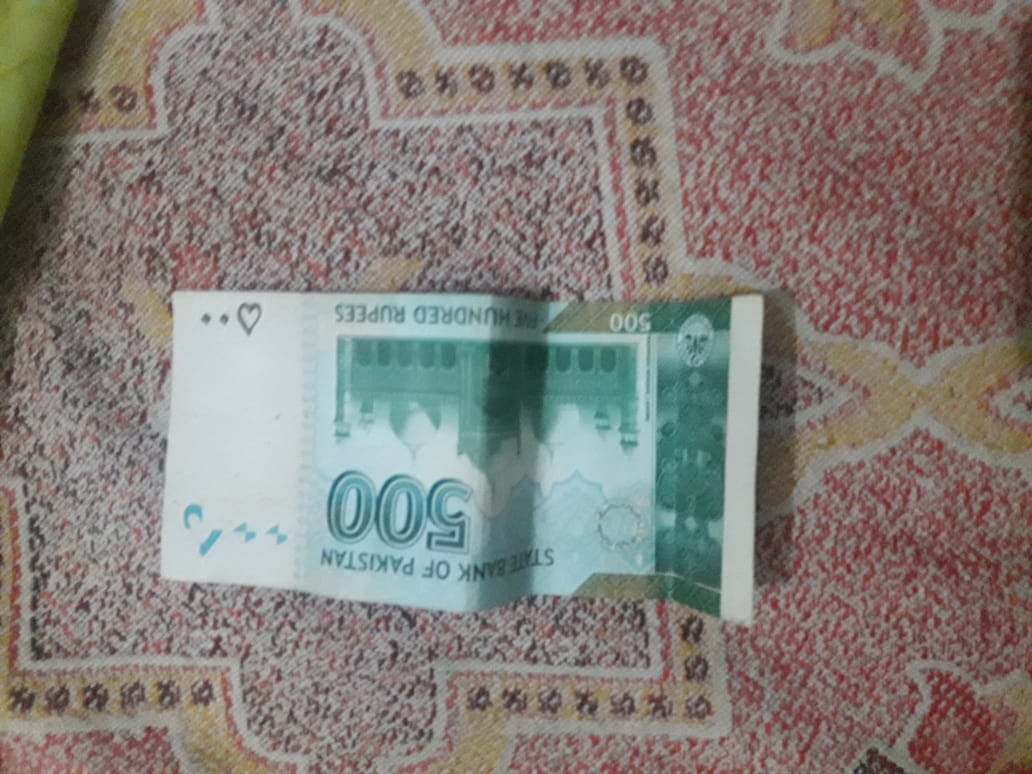500 rupee: (139, 270, 804, 629)
